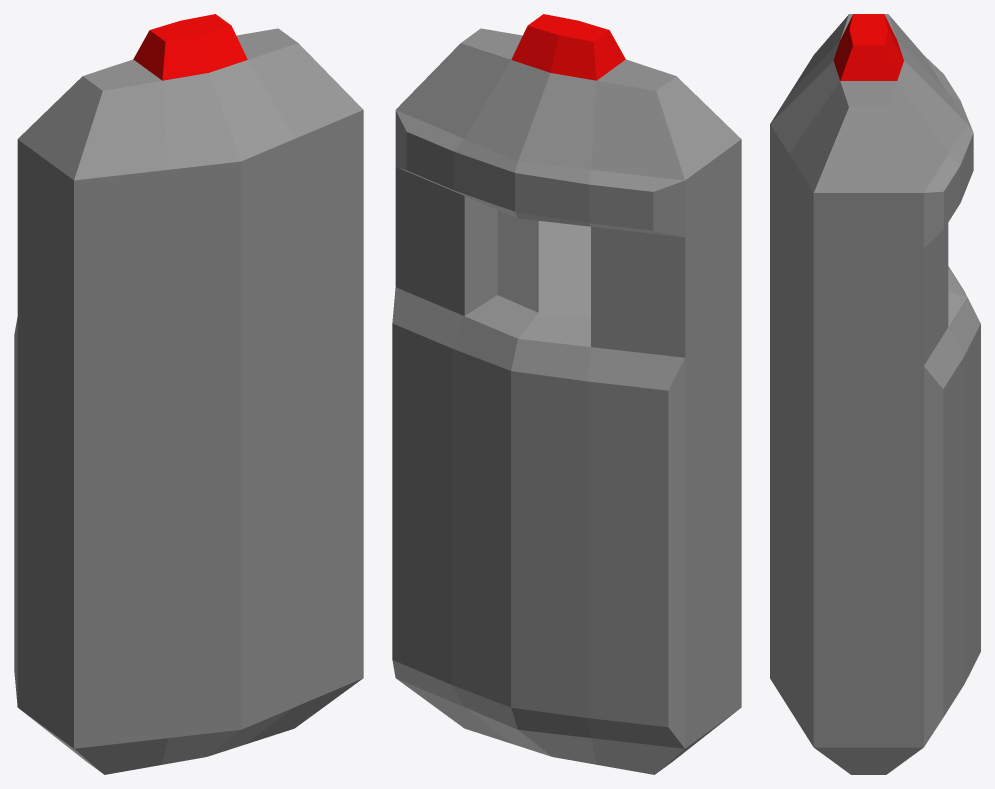
3 views of the same model, side by side, from view 1: azimuth 30°, elevation 25°; view 2: azimuth 150°, elevation 25°; view 3: azimuth 270°, elevation 25° (orthographic). The views are drawn at different scales.
Visible parts, largest first — view 1: Cube; view 2: Cube; view 3: Cube.
Part boxes in pixels (x1,y1,x2,y2): Cube: (14,14,363,774); Cube: (392,14,741,774); Cube: (770,14,980,774).
Bounding box in the file's own units: 41.99 × 99.39 × 27.12.
